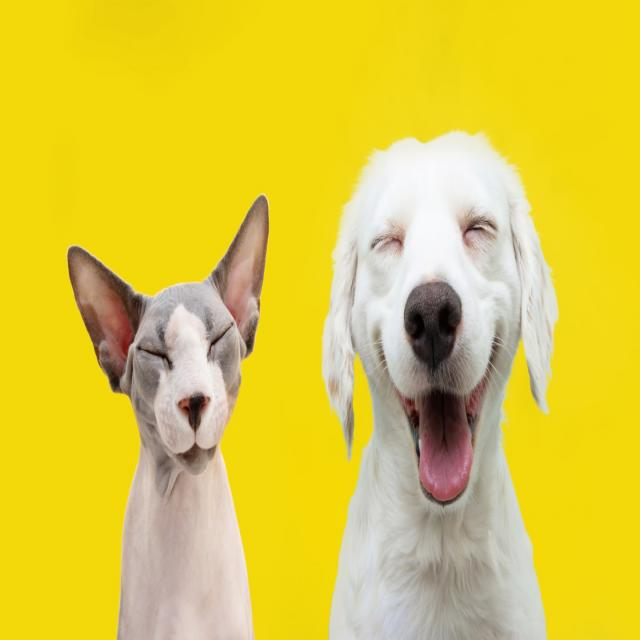dog: (322, 111, 560, 640), (59, 214, 294, 640)
